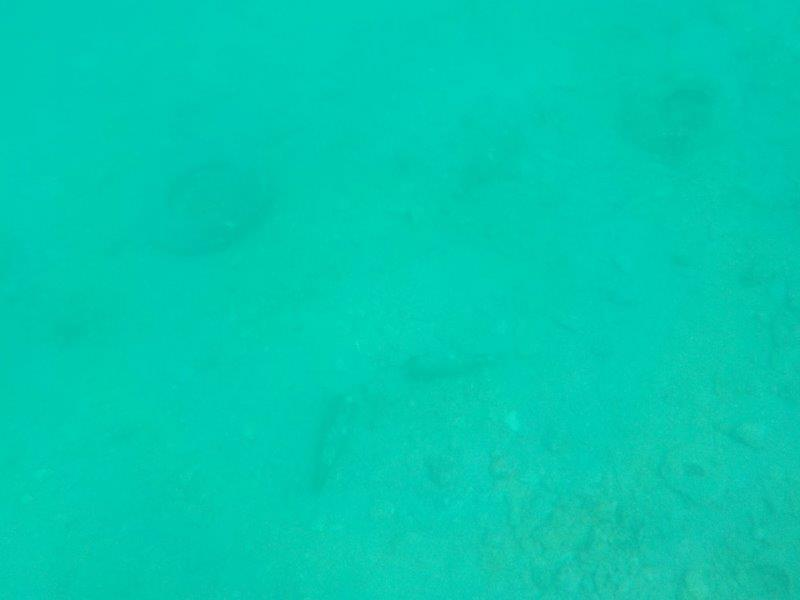bottle: (307, 387, 365, 497), (402, 343, 518, 386)
tire: (131, 136, 283, 262), (612, 59, 752, 159)
